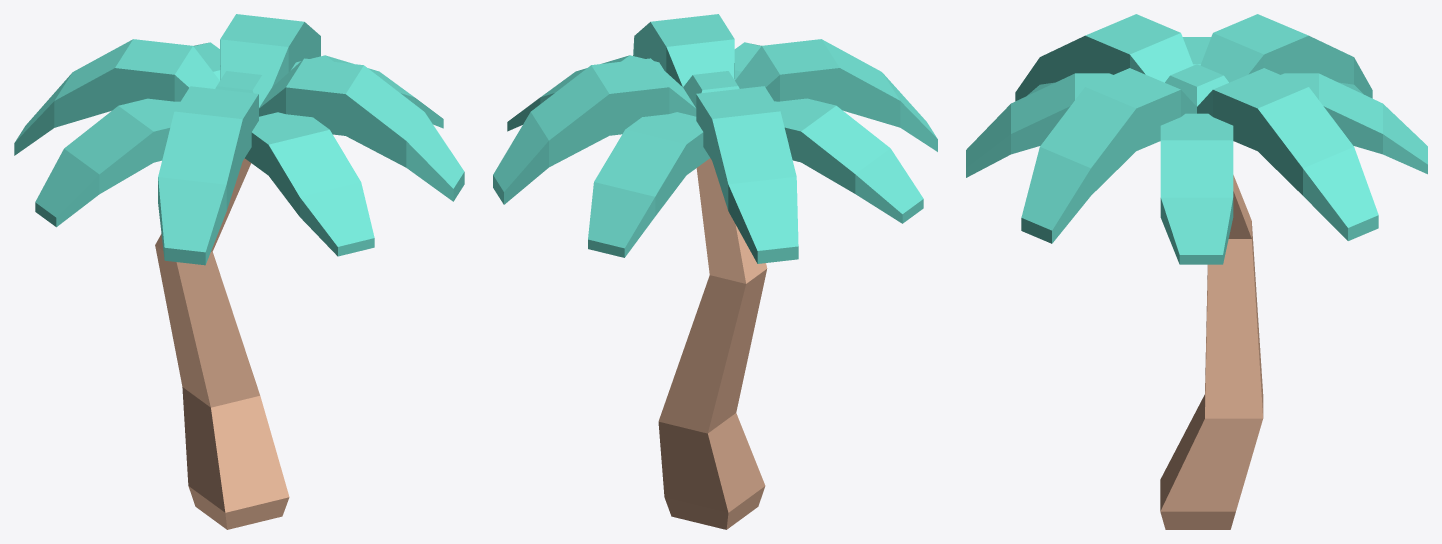
File: tree_palmDetailedShort.glb
The picture shows the model from 3 angles, left to right: view 1: azimuth 30°, elevation 25°; view 2: azimuth 150°, elevation 25°; view 3: azimuth 270°, elevation 25°; orthographic projection. The views are drawn at different scales.
Visible parts, largest first — view 1: tree_palmDetailedShort; view 2: tree_palmDetailedShort; view 3: tree_palmDetailedShort.
Boxes of the visible parts, left/top/right/bottom form: tree_palmDetailedShort: left=14, top=14, right=464, bottom=529; tree_palmDetailedShort: left=493, top=14, right=937, bottom=529; tree_palmDetailedShort: left=966, top=14, right=1427, bottom=529.
Bounding box in the file's own units: 1.03 × 1.12 × 1.03.
